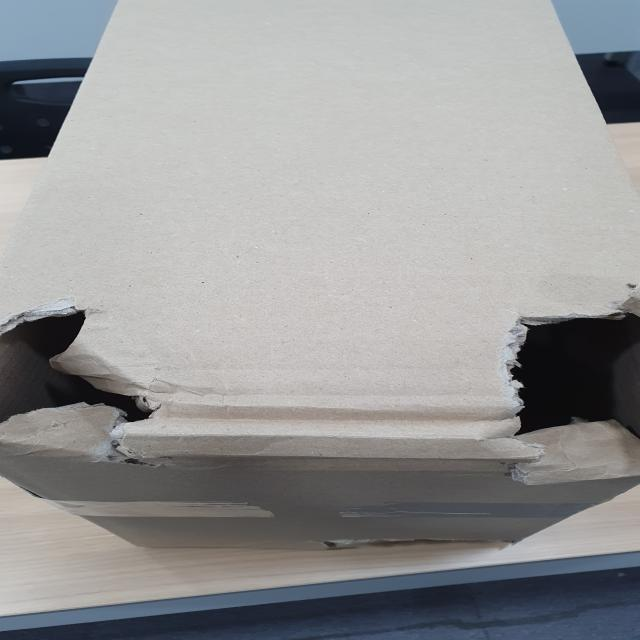hole: (0, 307, 180, 472), (497, 298, 640, 488)
